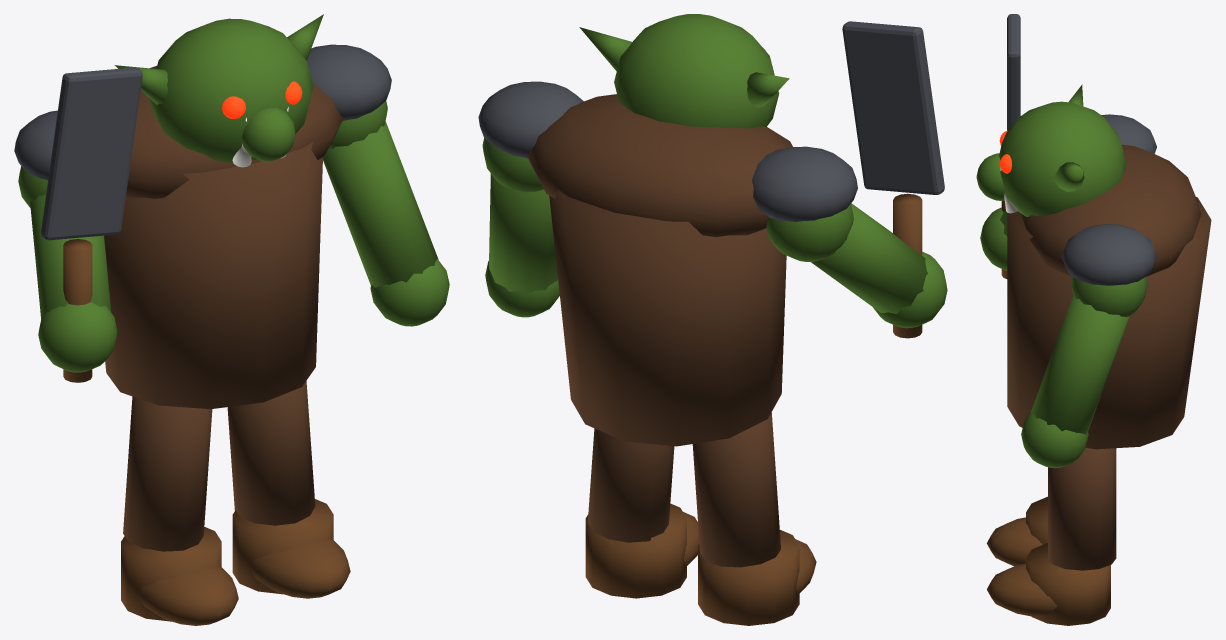
The model's file is orc.glb.
3 renders of one model, left to right at view 1: azimuth 30°, elevation 25°; view 2: azimuth 150°, elevation 25°; view 3: azimuth 270°, elevation 25°, orthographic. The views are drawn at different scales.
Visible parts, largest first — view 1: orc; view 2: orc; view 3: orc.
Boxes of the visible parts, x1,y1,x2,y2 form: orc: [14, 14, 449, 625]; orc: [478, 14, 947, 625]; orc: [976, 14, 1211, 625].
Bounding box in the file's own units: 0.6094 × 0.8021 × 0.3447.
